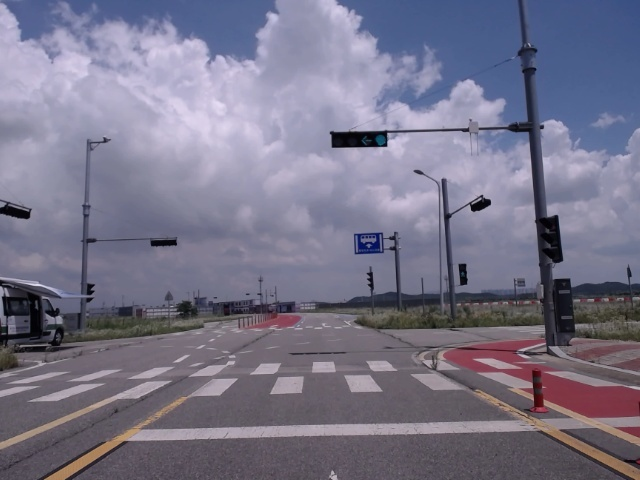all_green_4: (330, 132, 387, 149)
